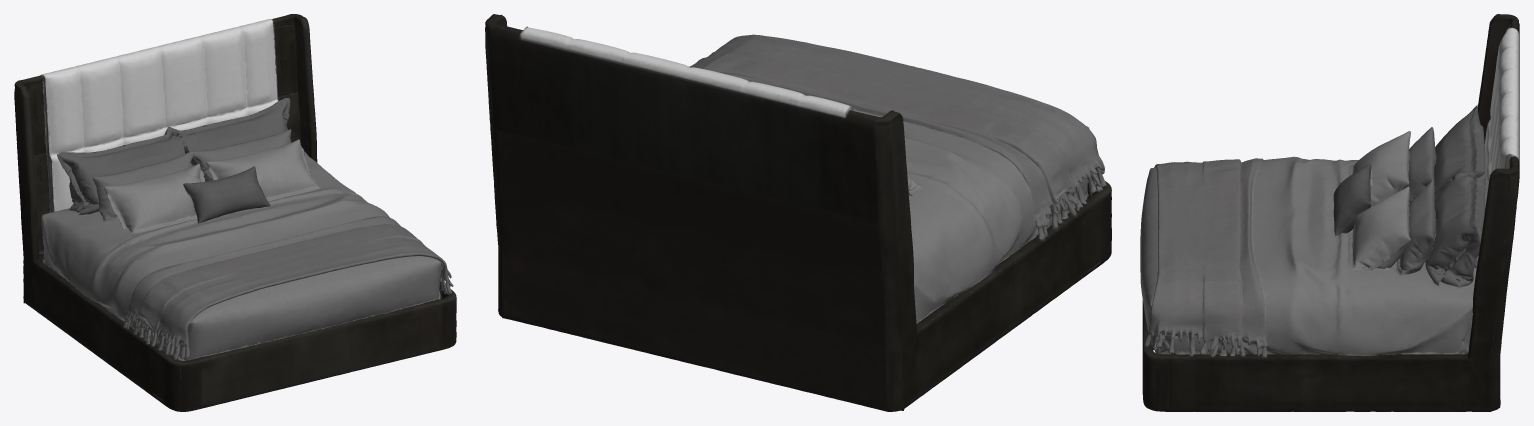
Rendered from uploaded-bed-2k.glb.
3 views of the same model, side by side, from view 1: azimuth 30°, elevation 25°; view 2: azimuth 150°, elevation 25°; view 3: azimuth 270°, elevation 25° (orthographic). The views are drawn at different scales.
Visible parts, largest first — view 1: world; view 2: world; view 3: world.
Boxes of the visible parts, <box> form: world: <box>14,14,456,411</box>; world: <box>485,14,1111,411</box>; world: <box>1140,14,1519,411</box>.
Size of the model in its own units: 0.9863 by 0.7098 by 0.9964.
1 material, 1 textured.
